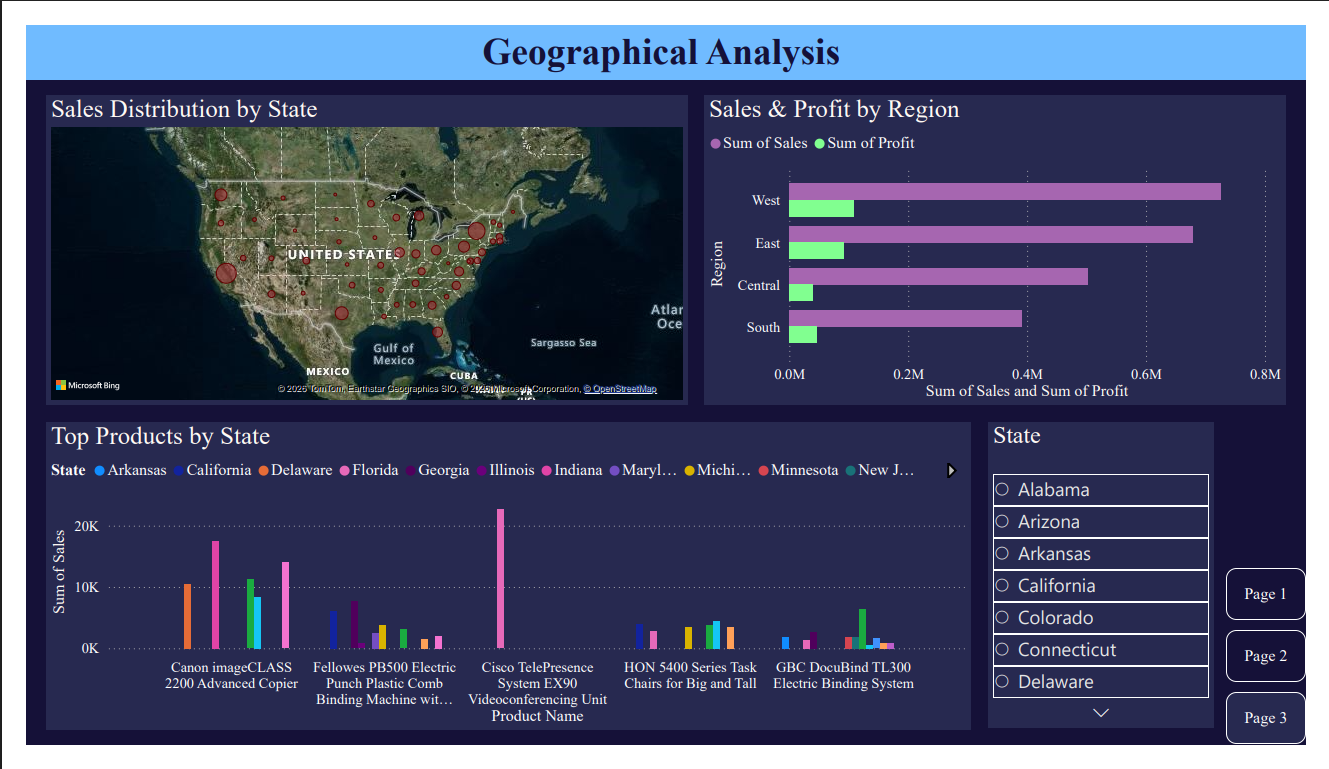

The dashboard page shown, as its layout file describes it:
{"tool":"powerbi","page":{"name":"Page 3","canvas":[1280,720],"ordinal":2},"visuals":[{"type":"map","title":"Sales Distribution by State","fields":{"Category":["Orders.State"],"Size":["Sum(Orders.Sales)"]},"box":[20,70,641.7,310],"z":0},{"type":"pageNavigator","box":[1200,543.3,80,176.7],"z":1000},{"type":"clusteredBarChart","title":"Sales & Profit by Region","fields":{"Category":["Orders.Region"],"Y":["Sum(Orders.Sales)","Sum(Orders.Profit)"]},"box":[678.3,70,581.7,310],"z":2000},{"type":"clusteredColumnChart","title":"Top Products by State","fields":{"Category":["Orders.Product Name"],"Y":["Sum(Orders.Sales)"],"Series":["Orders.State"]},"box":[20,396.7,925,308.3],"z":3000},{"type":"listSlicer","fields":{"Values":["Orders.State"]},"box":[961.7,396.7,226.7,306.7],"z":4000},{"type":"textbox","box":[0,0,1280,55],"z":5000}]}

Visuals, with their boxes in screenshot pixels (x1, y1, x2, y2), scaled from the page's 1280x720 canvas onto the 1329x769 screenshot:
"Sales Distribution by State" map: [x1=21, y1=75, x2=687, y2=406]
pageNavigator: [x1=1246, y1=580, x2=1328, y2=768]
"Sales & Profit by Region" clusteredBarChart: [x1=704, y1=75, x2=1308, y2=406]
"Top Products by State" clusteredColumnChart: [x1=21, y1=424, x2=981, y2=753]
listSlicer - Orders.State: [x1=999, y1=424, x2=1234, y2=751]
textbox: [x1=0, y1=0, x2=1328, y2=59]
